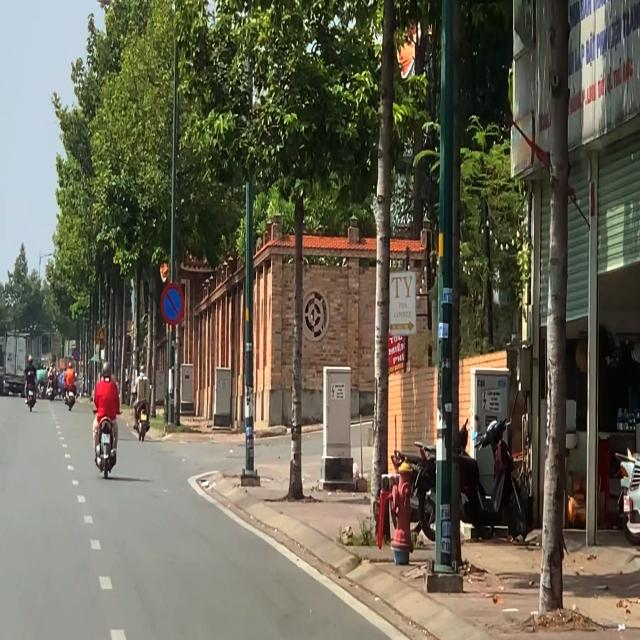Cam do: (160, 282, 185, 325)
Cam dung va do: (73, 348, 80, 361)
Nguy hiem: (96, 325, 105, 340)
